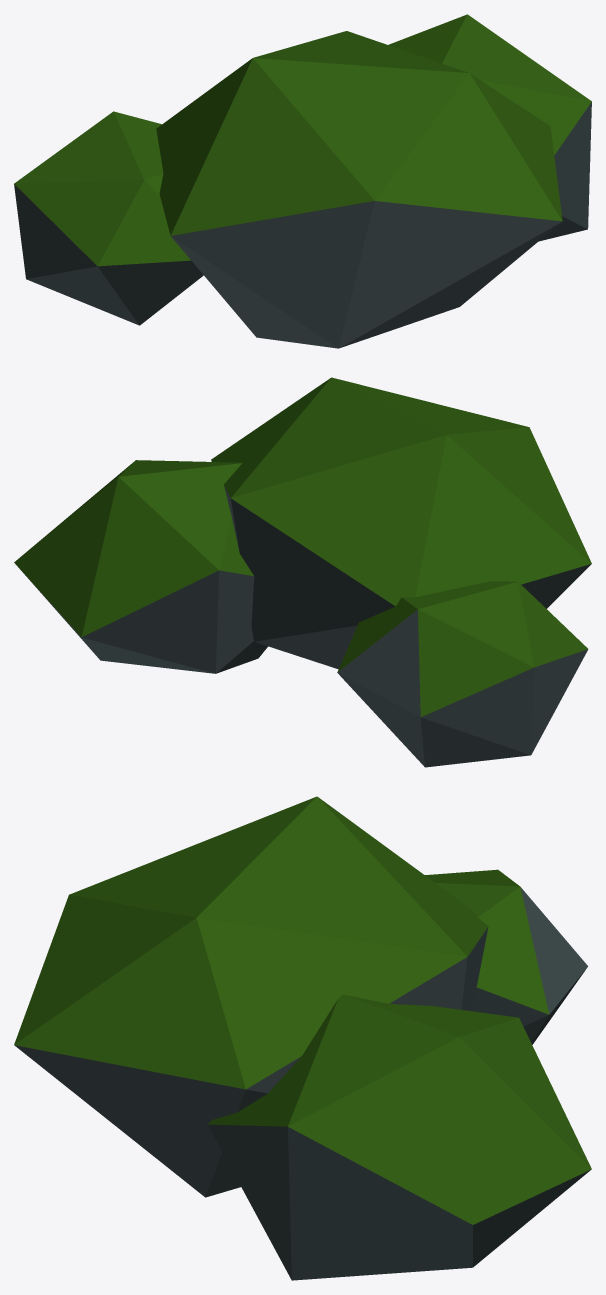
File: world_boulder_mossy_l.fbx
The picture shows the model from 3 angles, top to bottom: view 1: azimuth 30°, elevation 25°; view 2: azimuth 150°, elevation 25°; view 3: azimuth 270°, elevation 25°; orthographic projection. The views are drawn at different scales.
Visible parts, largest first — view 1: world_boulder_mossy_l; view 2: world_boulder_mossy_l; view 3: world_boulder_mossy_l.
Boxes of the visible parts, left/top/right/bottom form: world_boulder_mossy_l: left=14, top=14, right=591, bottom=348; world_boulder_mossy_l: left=14, top=377, right=591, bottom=767; world_boulder_mossy_l: left=14, top=796, right=591, bottom=1280.
Size of the model in its own units: 1197 by 590 by 925.
